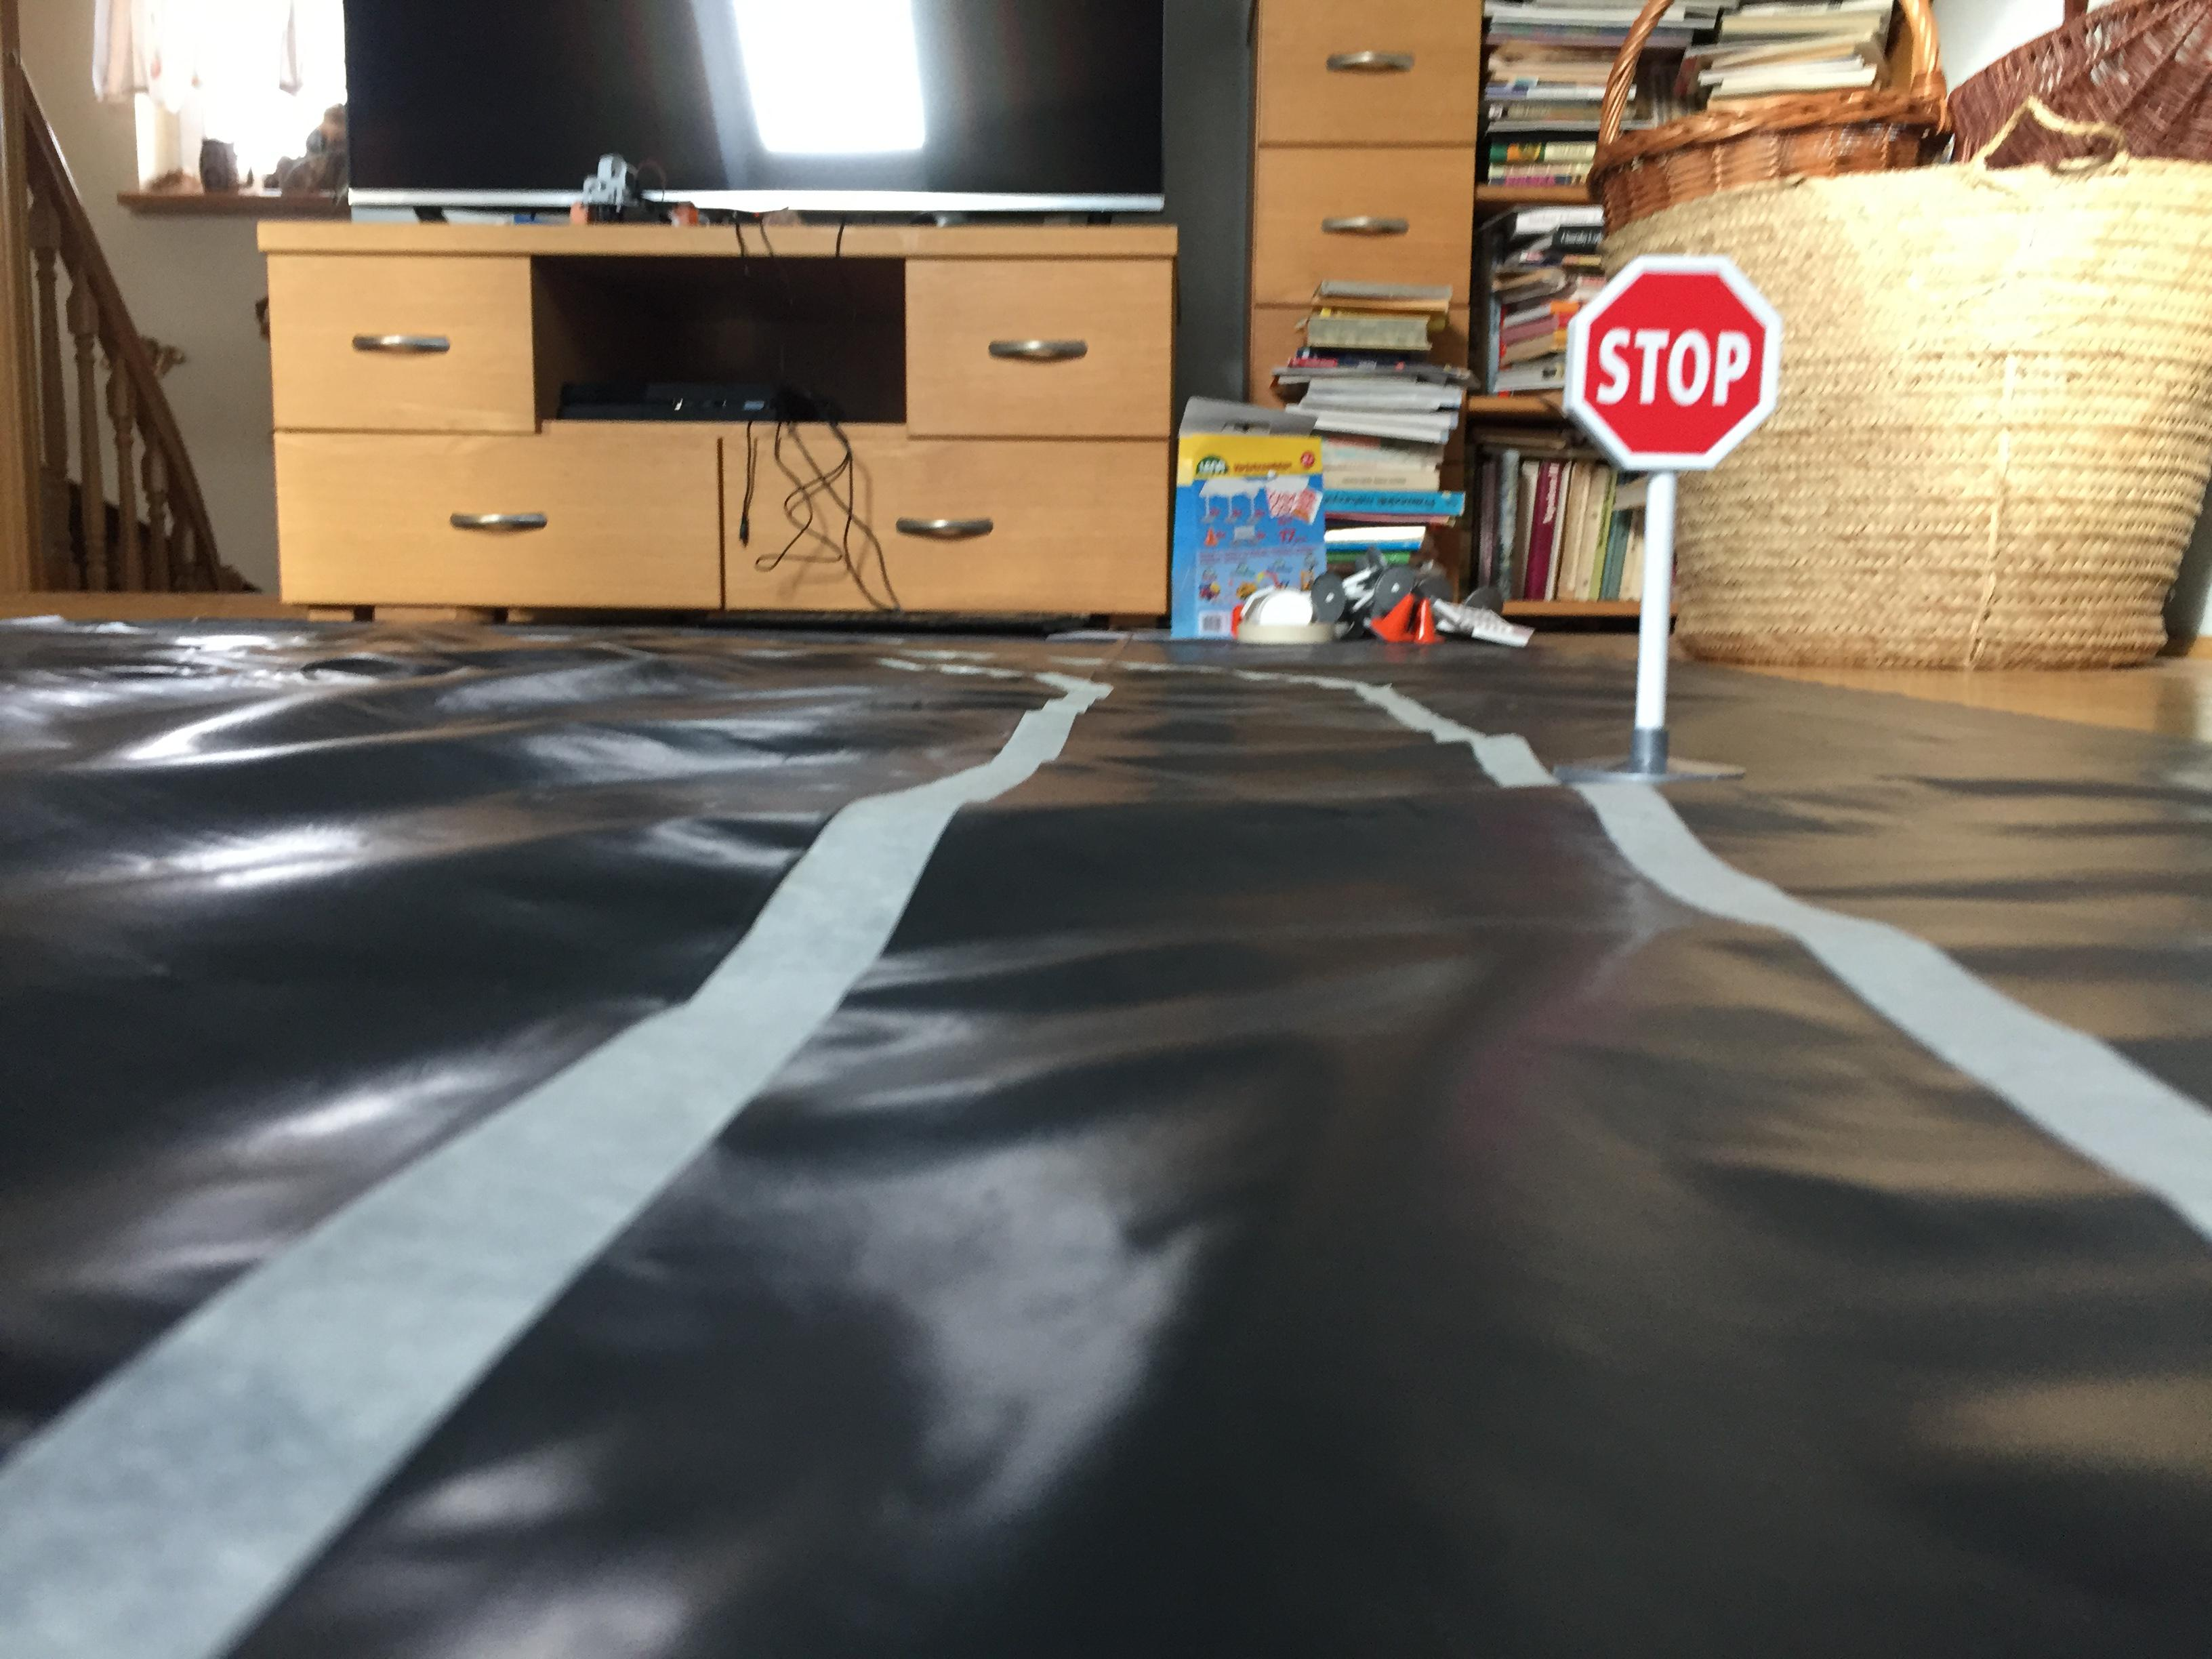stop: (1545, 242, 1792, 481)
